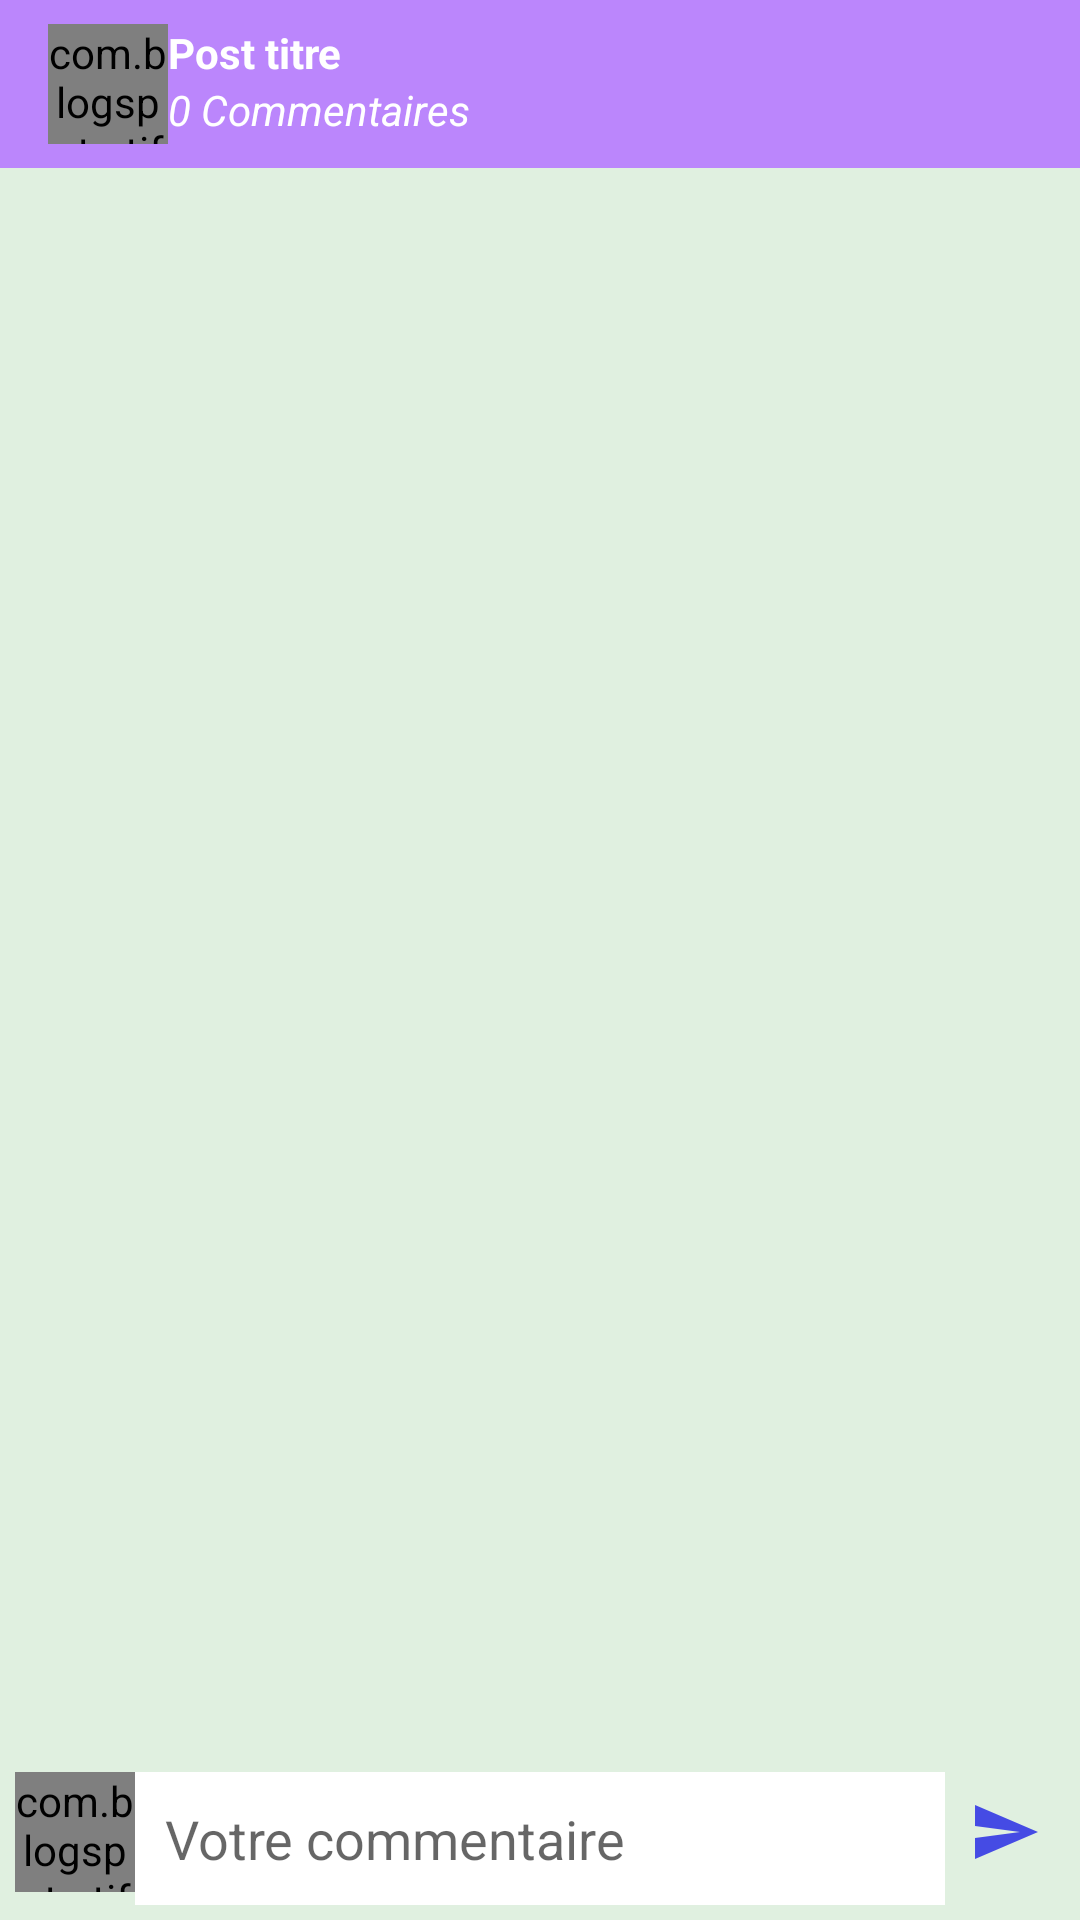

Locate icon controls on the screen. Image size 1080w x 1920h, boxes as [x1,y1,x2,y2].
send: [975,1805,1038,1859]
